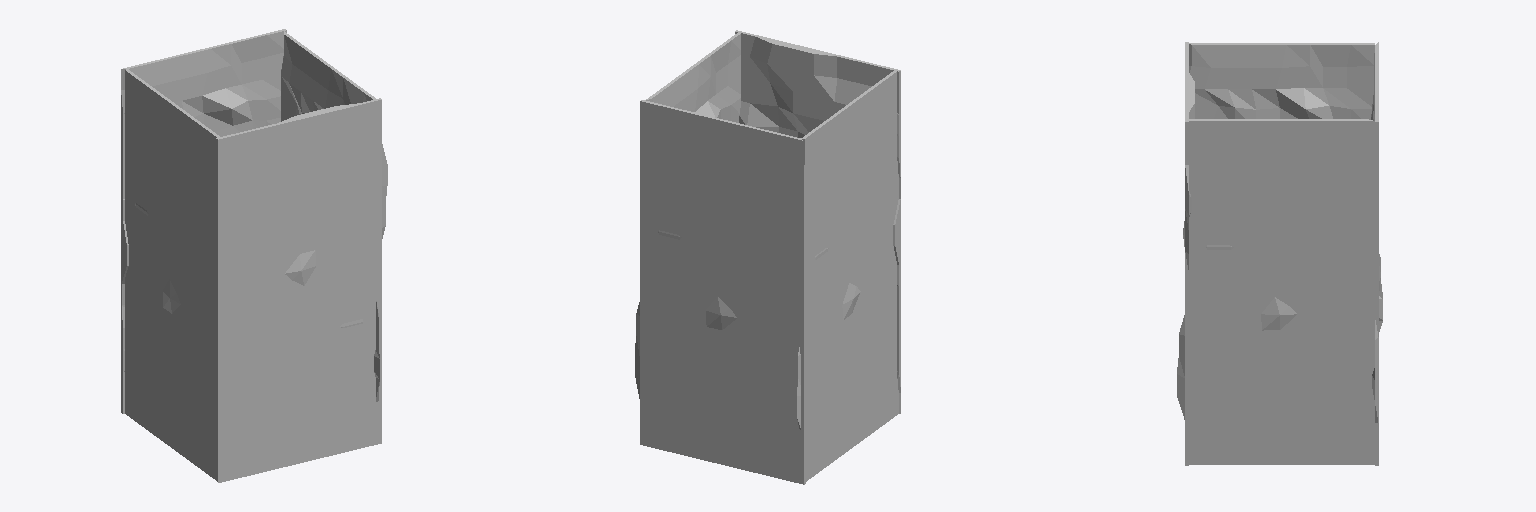
The model's file is BrokenBuilding.obj.
3 views of the same model, side by side, from view 1: azimuth 30°, elevation 25°; view 2: azimuth 150°, elevation 25°; view 3: azimuth 270°, elevation 25° (orthographic).
Visible parts, largest first — view 1: Cube.002, Cube, Cube.001, Cube.003; view 2: Cube.001, Cube, Cube.002, Cube.003; view 3: Cube.003, Cube, Cube.002, Cube.001.
Part boxes in pixels (x1,y1,x2,y2): Cube.002: (212, 98, 387, 482); Cube: (125, 69, 228, 481); Cube.001: (121, 29, 286, 413); Cube.003: (281, 31, 379, 444); Cube.001: (635, 100, 809, 484); Cube: (797, 71, 898, 481); Cube.002: (735, 30, 900, 413); Cube.003: (646, 31, 741, 122); Cube.003: (1177, 119, 1374, 464); Cube: (1189, 43, 1382, 331); Cube.002: (1183, 42, 1194, 465); Cube.001: (1371, 42, 1380, 465).
Bounding box in the file's own units: 105 × 200 × 109.